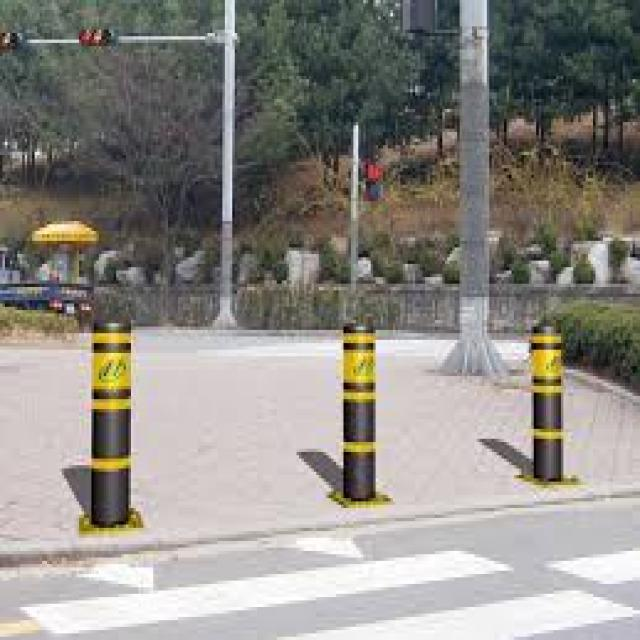bollard: (78, 300, 138, 541), (336, 316, 386, 518), (524, 318, 576, 488)
